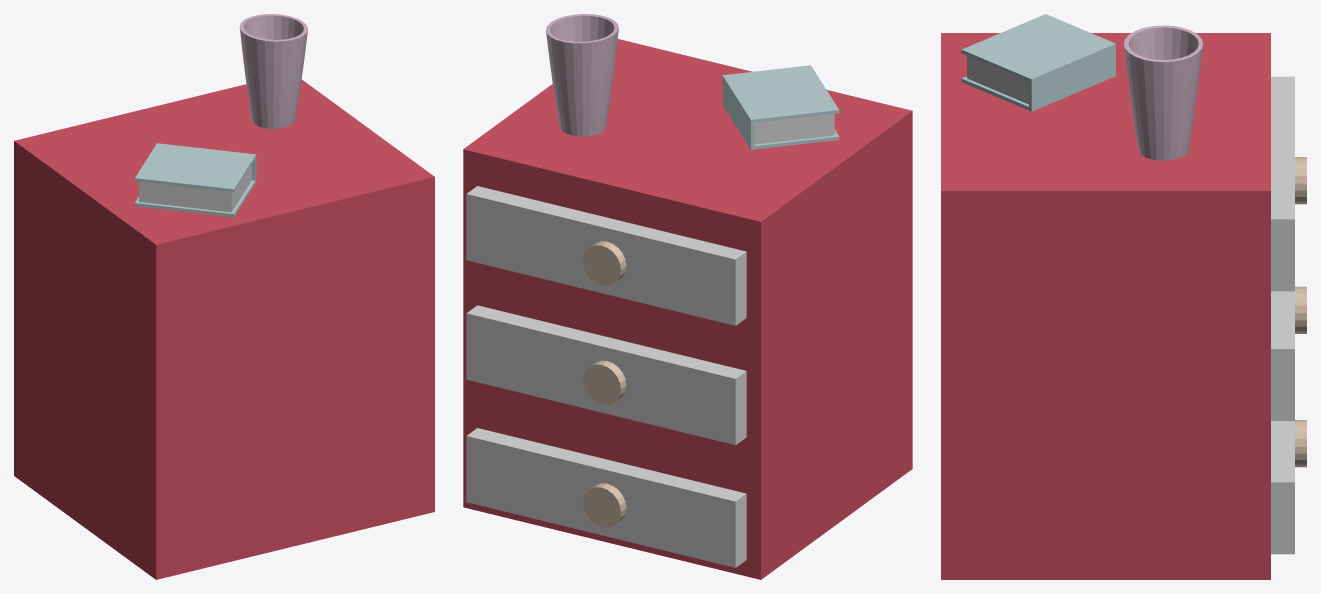
File: Powerful Turing.glb
3 views of the same model, side by side, from view 1: azimuth 30°, elevation 25°; view 2: azimuth 150°, elevation 25°; view 3: azimuth 270°, elevation 25° (orthographic). The views are drawn at different scales.
Visible parts, largest first — view 1: Mesh_Mesh_head_geo.001_lambert2SG.001; view 2: Mesh_Mesh_head_geo.001_lambert2SG.001; view 3: Mesh_Mesh_head_geo.001_lambert2SG.001.
Part boxes in pixels (box(x1,y1,x2,y2)): Mesh_Mesh_head_geo.001_lambert2SG.001: box(14, 14, 434, 579); Mesh_Mesh_head_geo.001_lambert2SG.001: box(463, 14, 912, 579); Mesh_Mesh_head_geo.001_lambert2SG.001: box(941, 14, 1306, 579).
Size of the model in its own units: 94 by 139 by 92.
